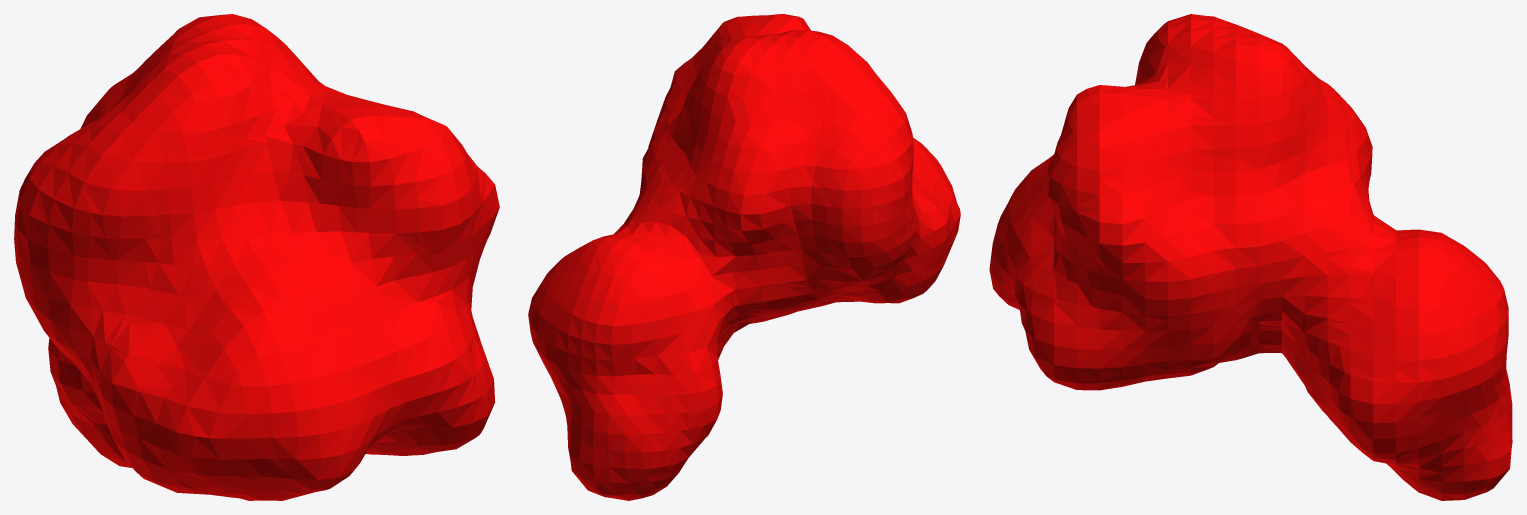
File: yibN_coarse.dae
3 views of the same model, side by side, from view 1: azimuth 30°, elevation 25°; view 2: azimuth 150°, elevation 25°; view 3: azimuth 270°, elevation 25° (orthographic). The views are drawn at different scales.
Visible parts, largest first — view 1: yibN; view 2: yibN; view 3: yibN.
Boxes of the visible parts, x1=… form: yibN: x1=14, y1=14, x2=499, y2=500; yibN: x1=528, y1=14, x2=960, y2=500; yibN: x1=989, y1=14, x2=1512, y2=500.
Bounding box in the file's own units: 37.26 × 47.98 × 51.58.
